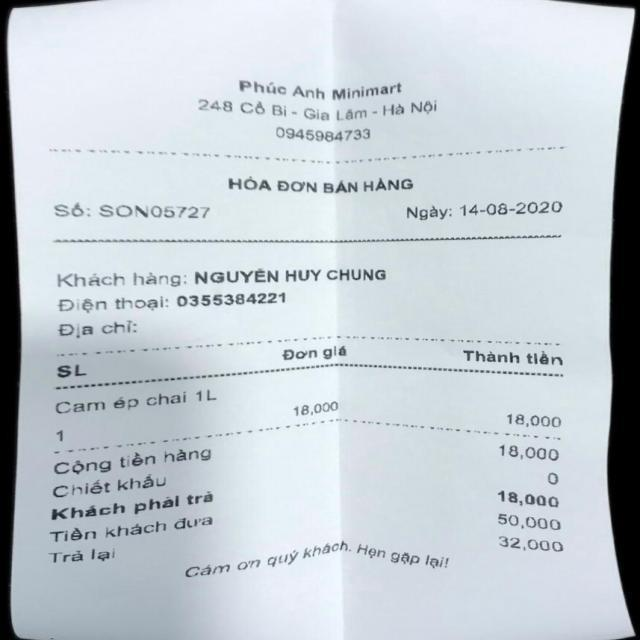Date: (460, 198, 566, 220)
Store_Name: (228, 72, 410, 98)
amount_number: (491, 438, 566, 462)
label_total: (46, 450, 223, 476)
